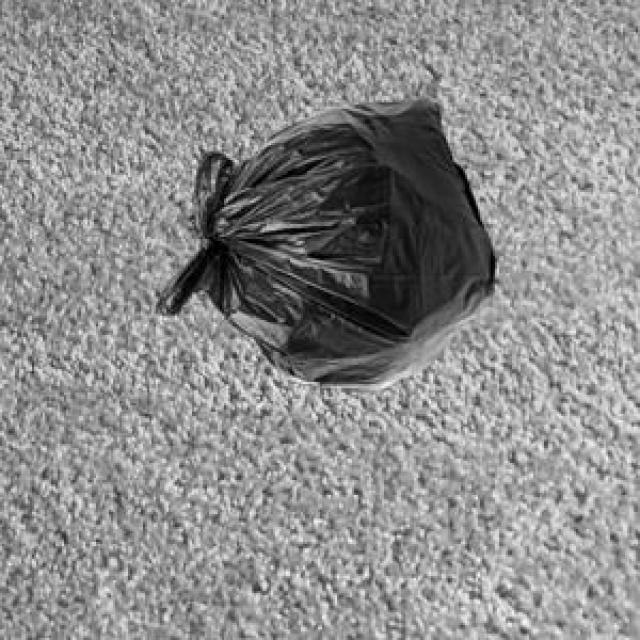miscellaneous trash: (152, 96, 491, 386)
